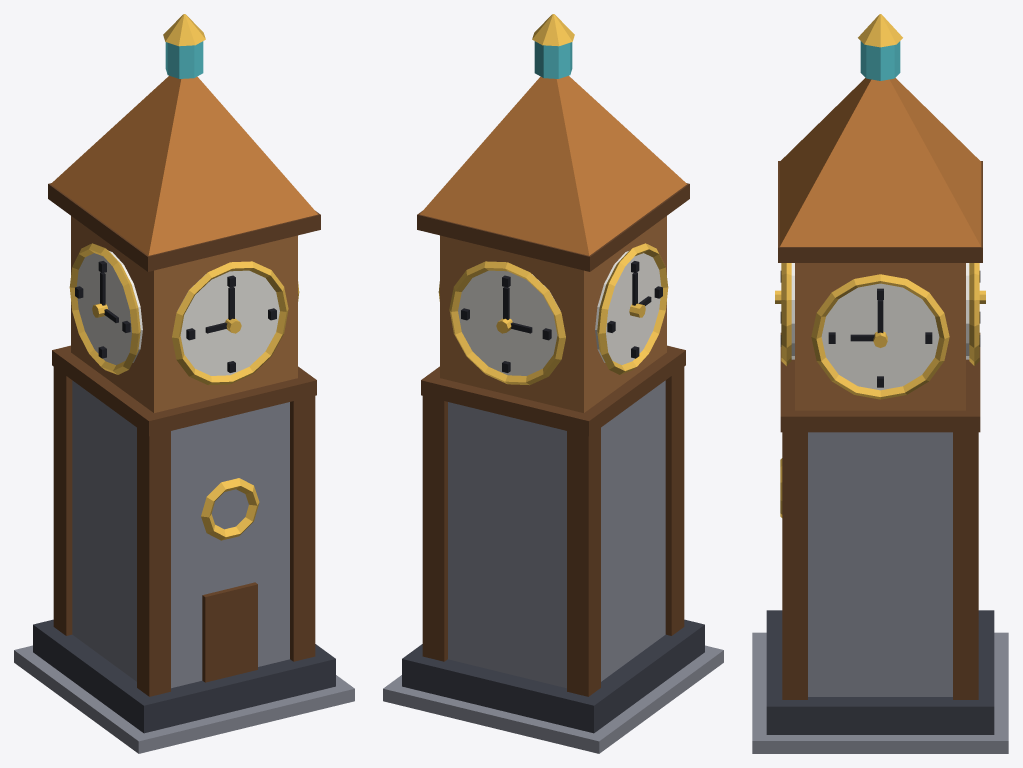
File: mdl_torre_reloj.fbx
3 renders of one model, left to right at view 1: azimuth 30°, elevation 25°; view 2: azimuth 150°, elevation 25°; view 3: azimuth 270°, elevation 25°, orthographic. The views are drawn at different scales.
Visible parts, largest first — view 1: mdl_torre_reloj; view 2: mdl_torre_reloj; view 3: mdl_torre_reloj.
Part boxes in pixels (x1=…): mdl_torre_reloj: x1=14, y1=14, x2=354, y2=753; mdl_torre_reloj: x1=383, y1=14, x2=723, y2=753; mdl_torre_reloj: x1=752, y1=14, x2=1008, y2=753.
Bounding box in the file's own units: 900 × 2655 × 900.
